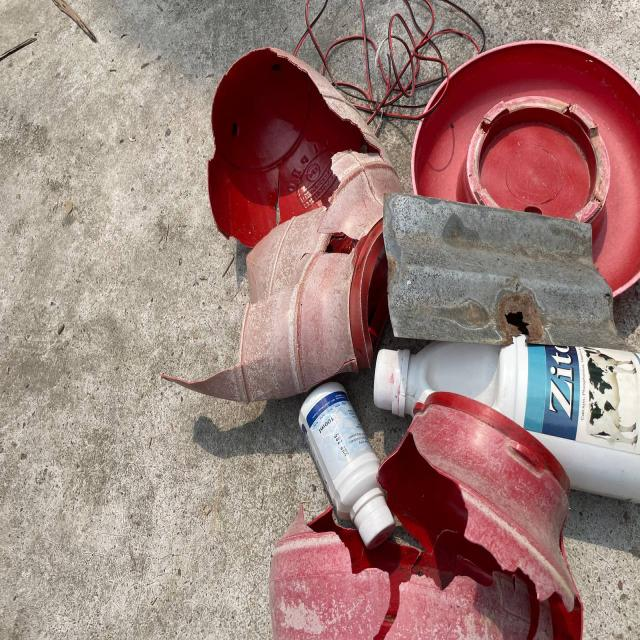Cable: (286, 0, 489, 77)
Metal: (367, 179, 633, 360)
Plastics: (173, 54, 378, 640), (397, 357, 640, 640), (454, 47, 640, 199)
